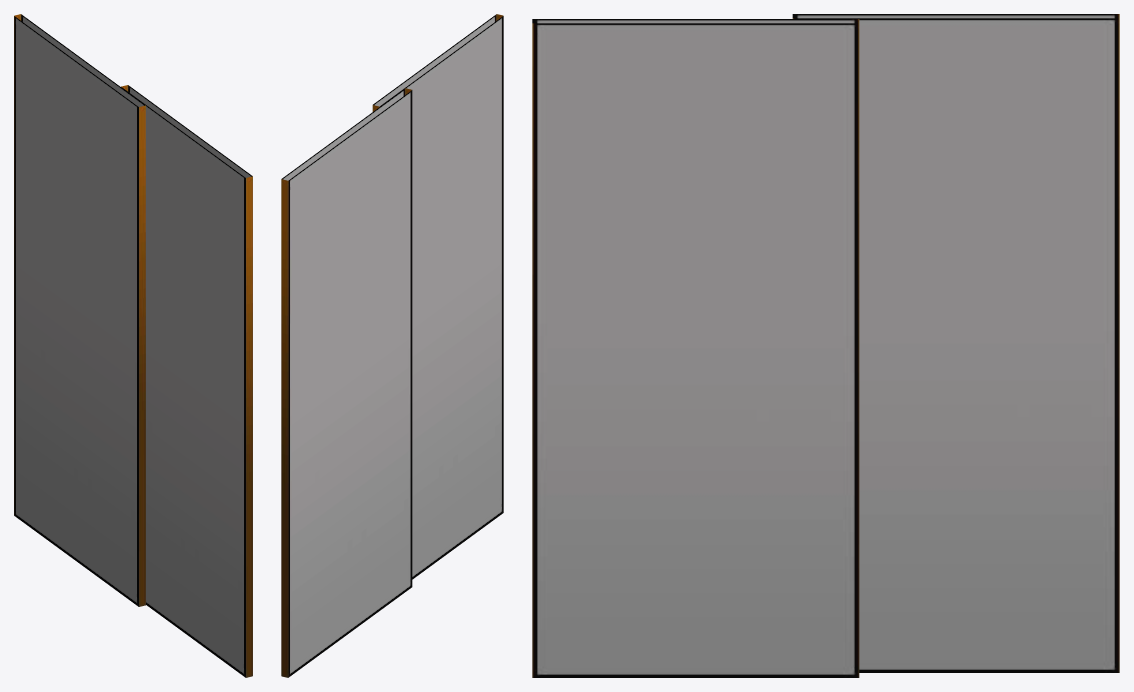
File: DoorSet.fbx
The picture shows the model from 3 angles, left to right: view 1: azimuth 30°, elevation 25°; view 2: azimuth 150°, elevation 25°; view 3: azimuth 270°, elevation 25°; orthographic projection. The views are drawn at different scales.
Visible parts, largest first — view 1: Door_L, door_R; view 2: Door_L, door_R; view 3: door_R, Door_L.
Boxes of the visible parts, x1,y1,x2,y2 form: Door_L: [14, 14, 145, 606]; door_R: [121, 85, 252, 677]; Door_L: [281, 88, 412, 677]; door_R: [372, 14, 503, 579]; door_R: [532, 19, 859, 677]; Door_L: [792, 14, 1119, 672].
Bounding box in the file's own units: 5.22 × 171 × 139.
